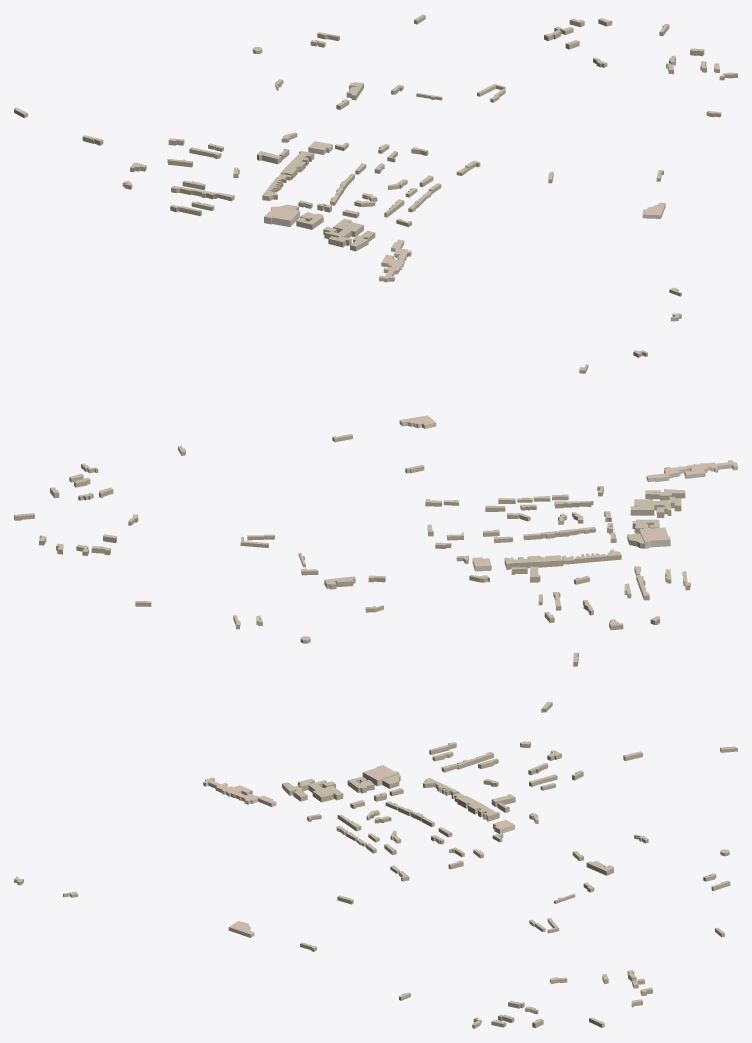
3 renders of one model, top to bottom at view 1: azimuth 30°, elevation 25°; view 2: azimuth 150°, elevation 25°; view 3: azimuth 270°, elevation 25°, orthographic. The views are drawn at different scales.
Size of the model in its own units: 1534 by 57.89 by 1723.
